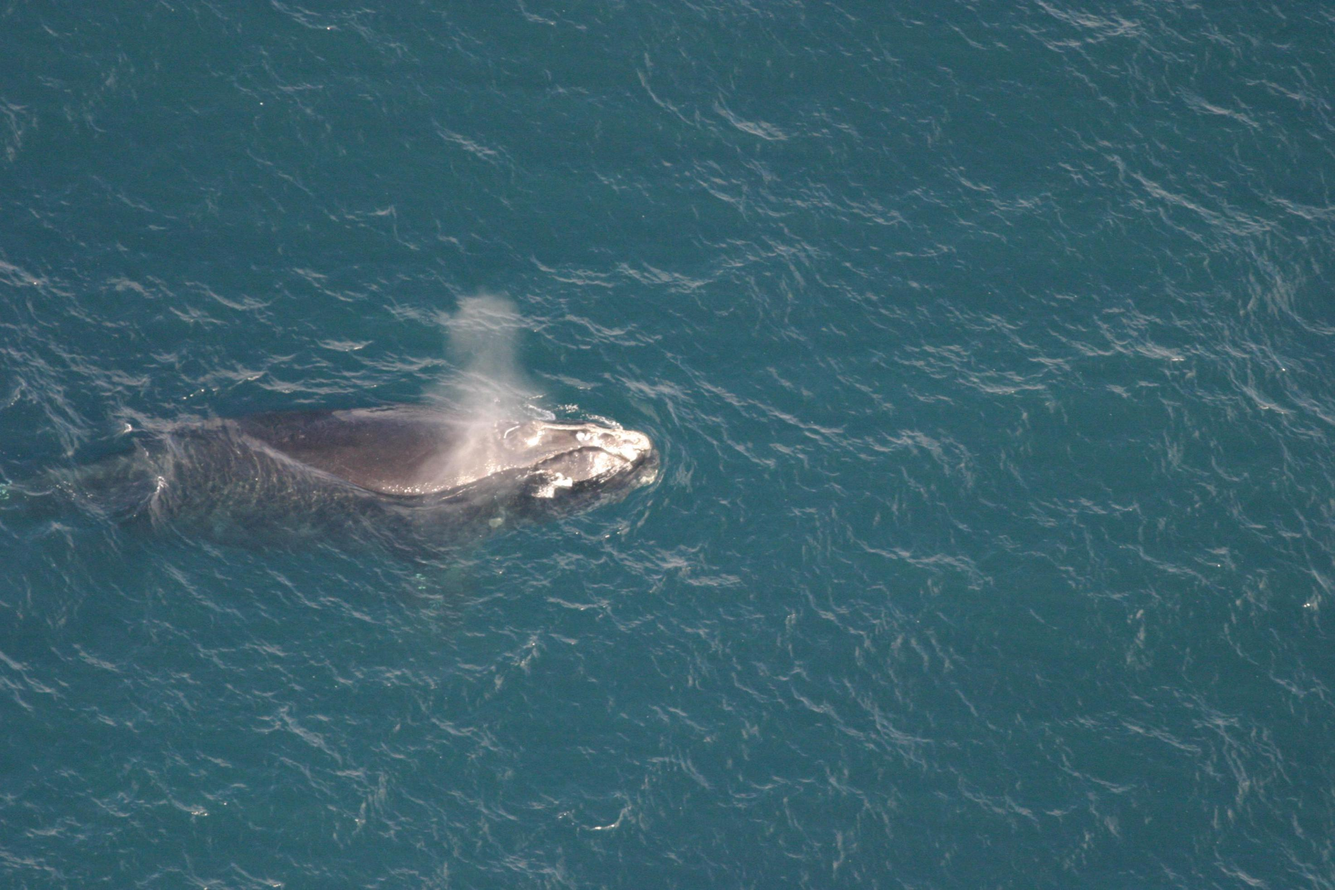whale: (0, 387, 671, 581)
